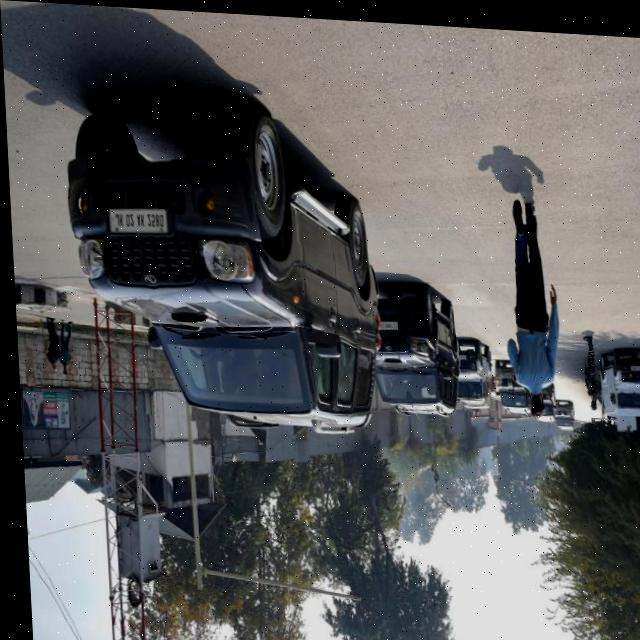plate: (105, 205, 168, 236), (375, 317, 396, 326), (625, 358, 640, 364)
